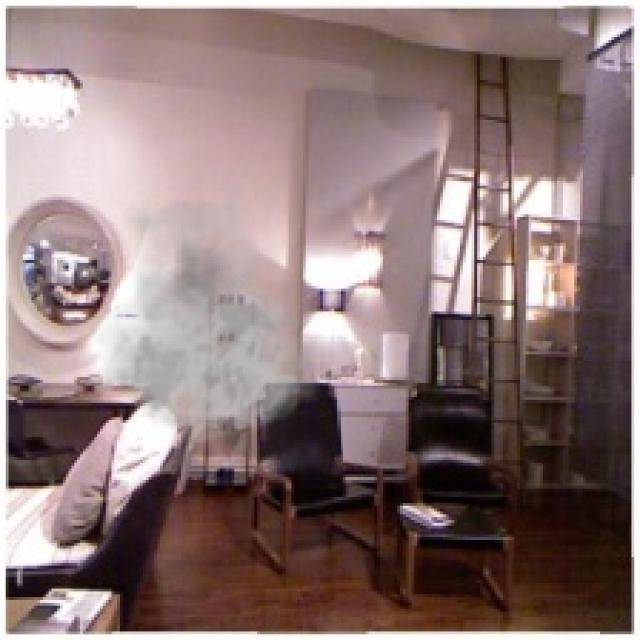smoke: (83, 180, 320, 446)
